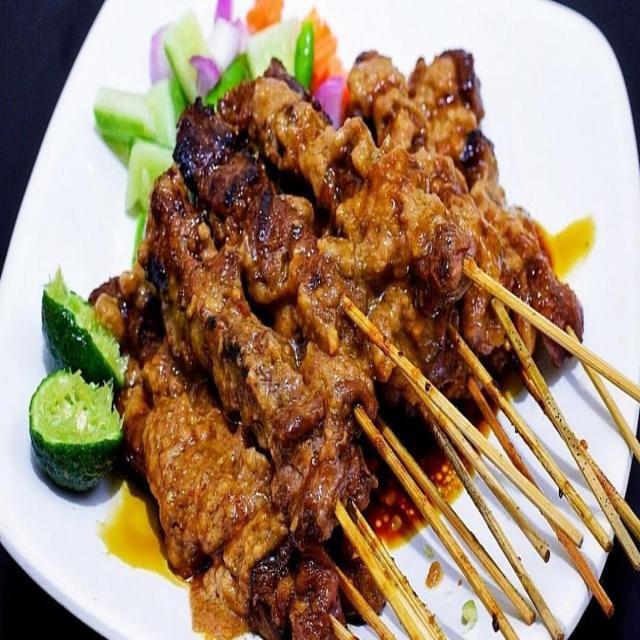Sate: (122, 108, 620, 623)
